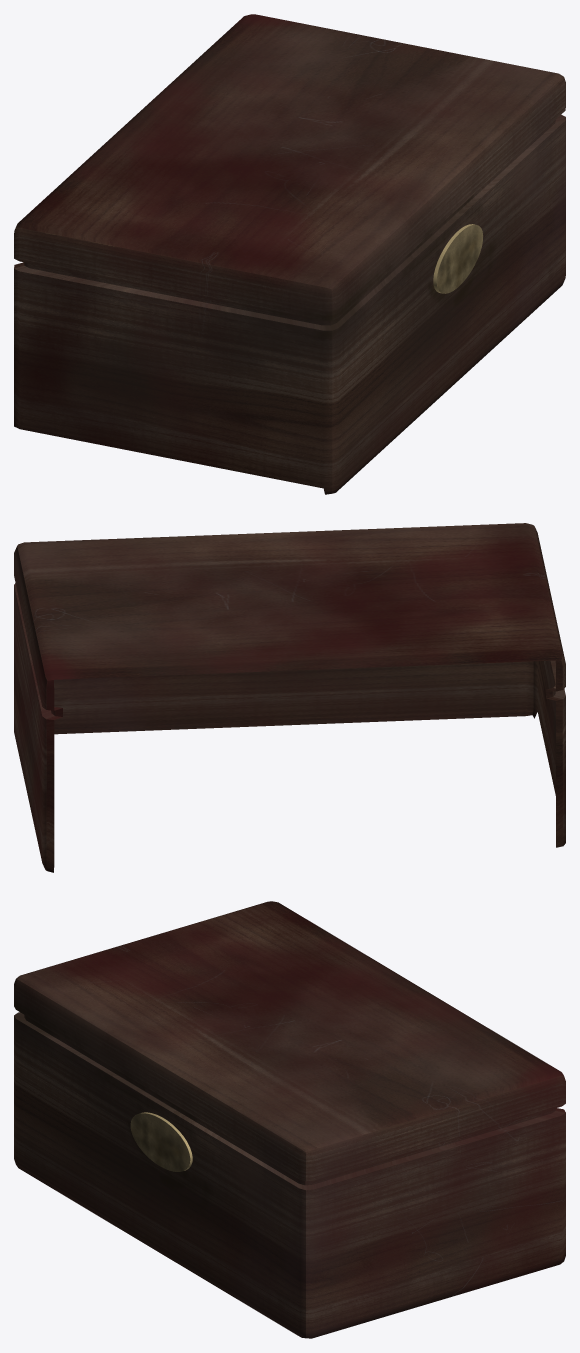
Rendered from TEXTURED CHEST.fbx.
The picture shows the model from 3 angles, top to bottom: view 1: azimuth 30°, elevation 25°; view 2: azimuth 150°, elevation 25°; view 3: azimuth 270°, elevation 25°; orthographic projection. The views are drawn at different scales.
Parts seen in each view (by area): view 1: chest; view 2: chest; view 3: chest.
Part boxes in pixels (box(x1,y1,x2,y2)): chest: box(14, 14, 565, 494); chest: box(14, 523, 565, 872); chest: box(14, 901, 565, 1338).
Size of the model in its own units: 0.0351 by 0.0124 by 0.0325.
